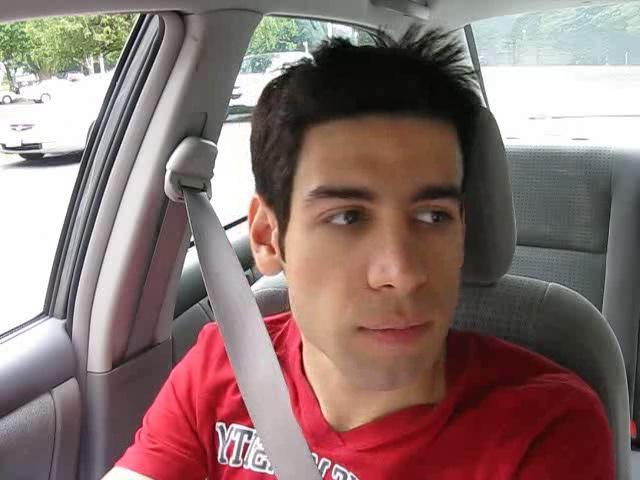no_yawn: (334, 301, 451, 364)
open_eyeL: (303, 192, 387, 244)
open_eyeR: (400, 190, 467, 240)
